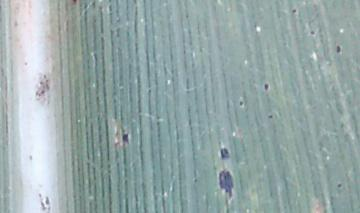tarspot: (216, 168, 236, 201), (218, 146, 231, 160), (120, 132, 132, 145), (333, 43, 343, 56), (38, 198, 48, 211), (43, 194, 51, 205), (263, 81, 270, 92), (290, 7, 298, 15), (237, 100, 245, 108), (22, 59, 30, 67), (308, 29, 316, 36), (192, 177, 199, 184), (266, 113, 274, 119), (27, 153, 33, 161), (336, 182, 342, 189), (71, 1, 78, 6)
